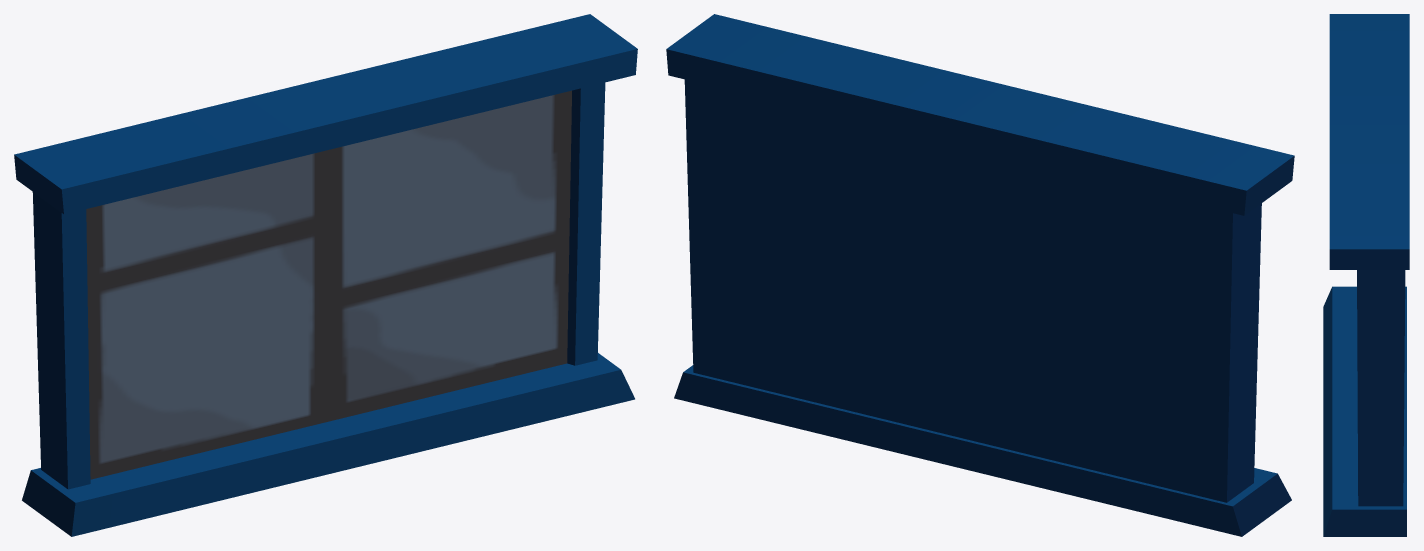
The model's file is Window_A01.fbx.
3 renders of one model, left to right at view 1: azimuth 30°, elevation 25°; view 2: azimuth 150°, elevation 25°; view 3: azimuth 270°, elevation 25°, orthographic. The views are drawn at different scales.
Visible parts, largest first — view 1: Window_A01; view 2: Window_A01; view 3: Window_A01.
Boxes of the visible parts, x1=… form: Window_A01: x1=14, y1=14, x2=637, y2=536; Window_A01: x1=666, y1=14, x2=1294, y2=536; Window_A01: x1=1323, y1=14, x2=1409, y2=536.
Size of the model in its own units: 314 by 180 by 48.47.
Materials: 1 (1 with a texture image).
